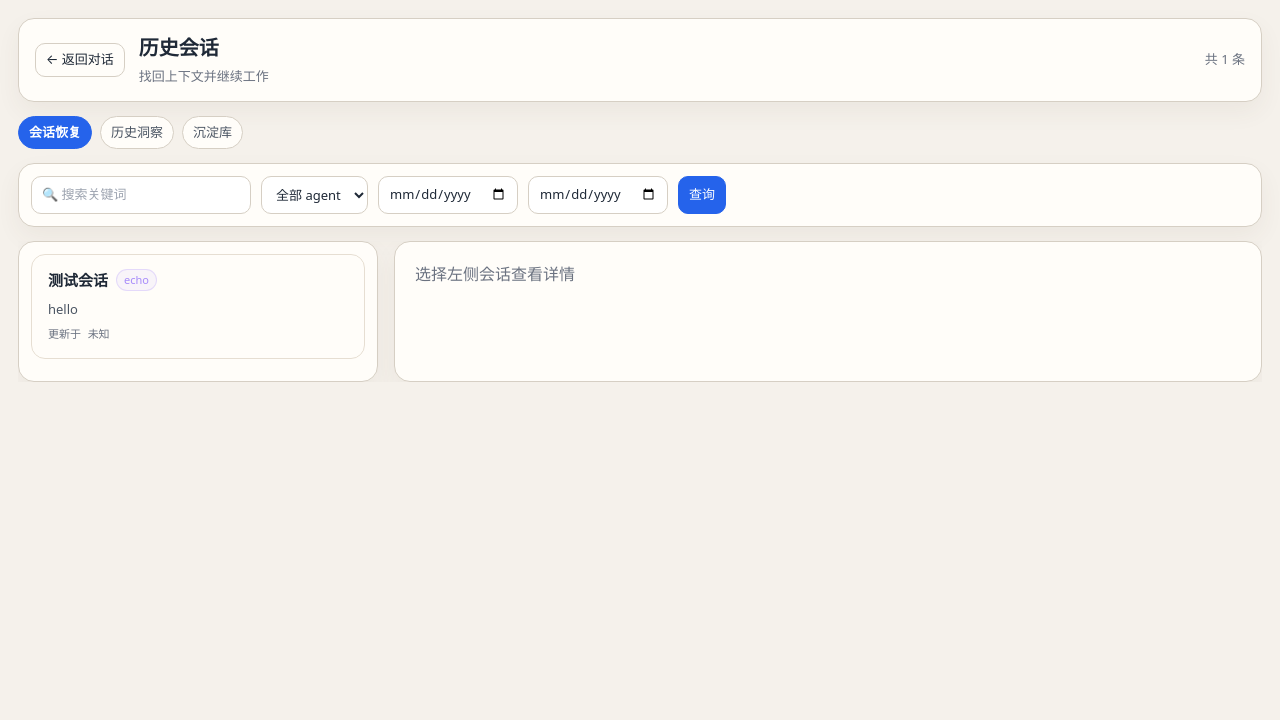
Test case: HistoryPage › shows message timestamp in session detail
The width and height of the screenshot is (1280, 720).
Click the text "测试会话": (78, 280) [48,268,108,291]
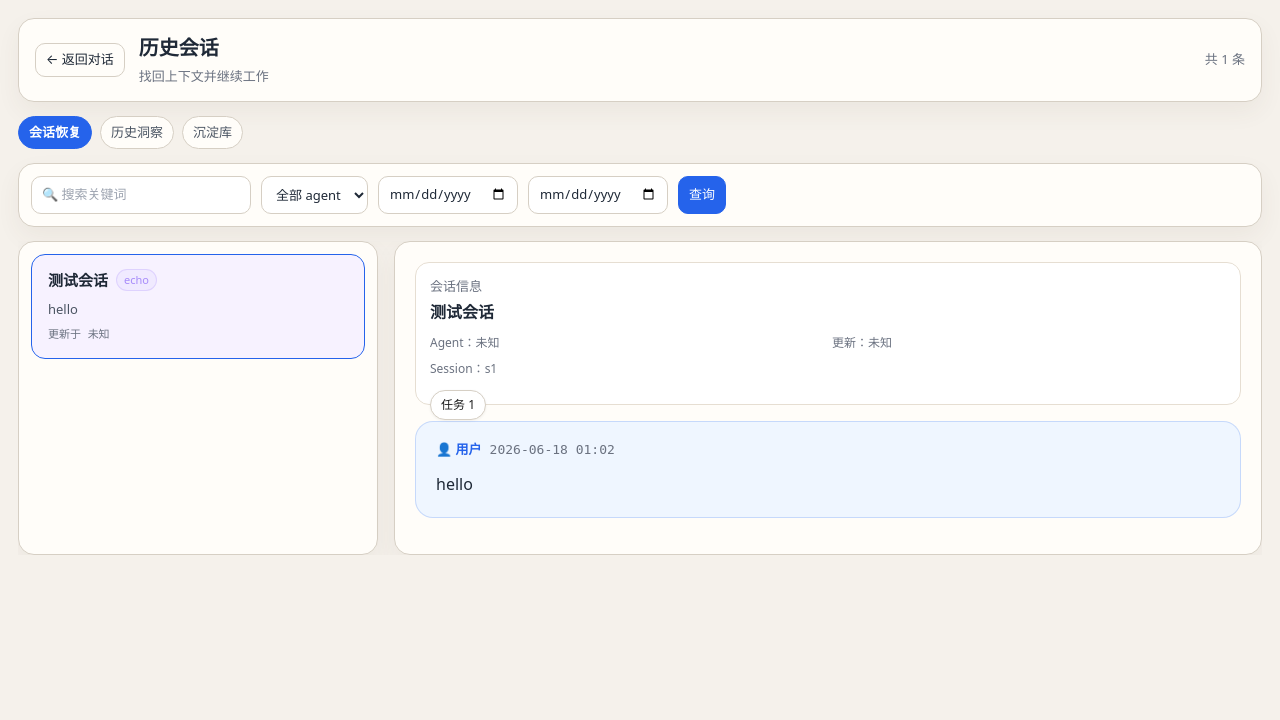
Result: the text "2026-06-18 01:02" is shown at [490,440,615,460]
